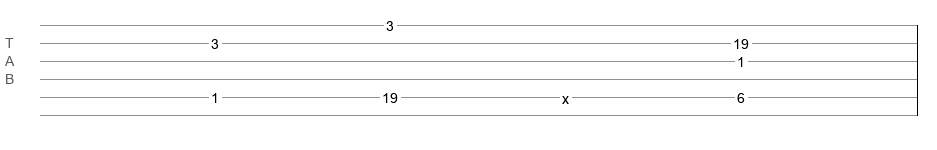1: (211, 90, 219, 100), (737, 54, 745, 64)
19: (382, 90, 398, 100), (733, 36, 749, 46)
3: (211, 36, 219, 46), (386, 18, 394, 28)
6: (737, 90, 745, 100)
x: (562, 91, 569, 99)
